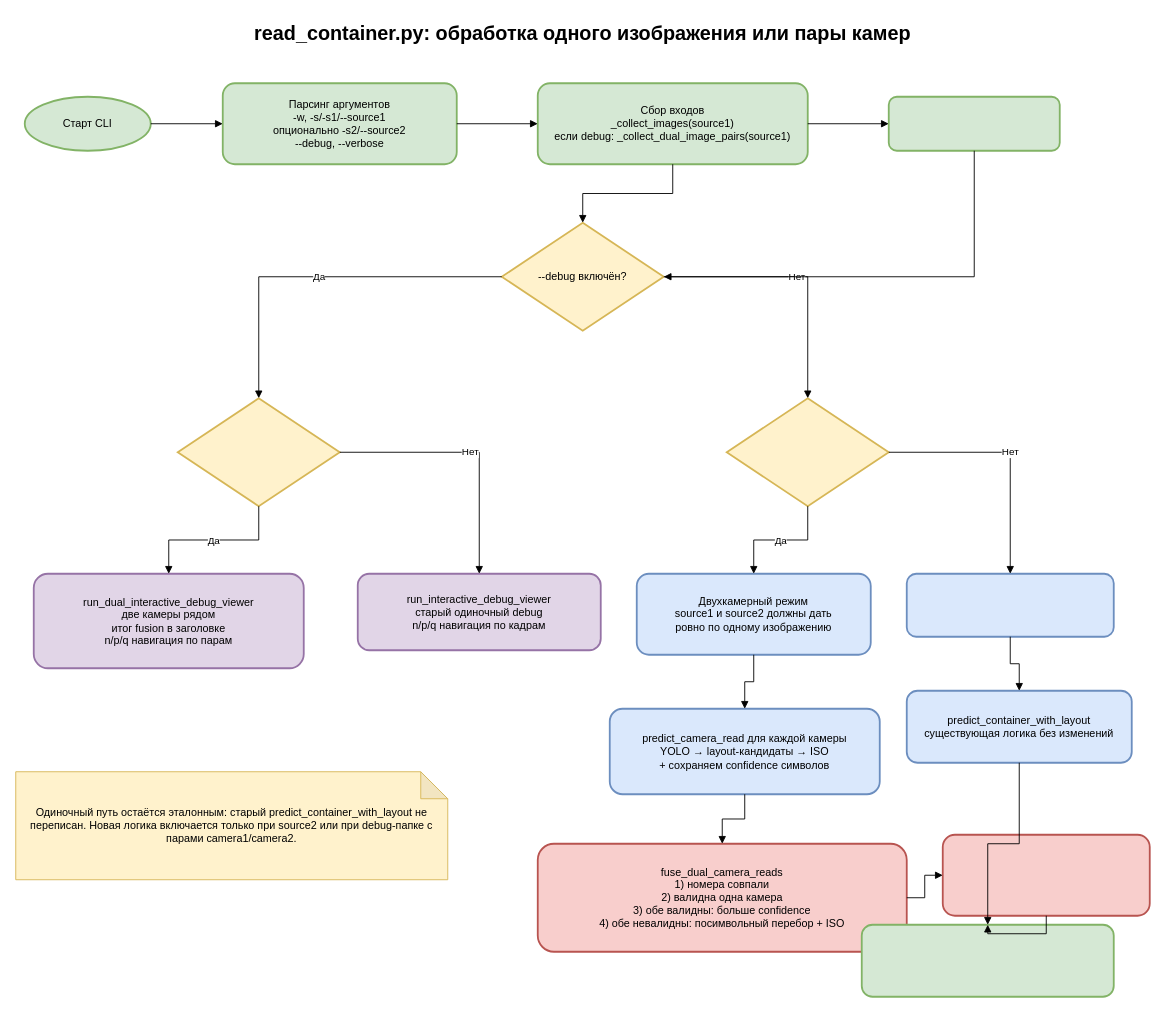
Some shapes in this 1166 by 1013 pixel diagram are drawn without their labels. Here are the shapes that lost their labels. From the top down, the box of each, then its label:
(887, 95, 1060, 151): Загрузка YOLO YOLO(weights)
(176, 397, 340, 507): Есть пары камер?
(725, 397, 889, 507): Передан source2?
(905, 572, 1114, 637): Одиночный режим цикл по images из source1
(941, 833, 1150, 916): type_size_code берём с любой камеры очистка фрагмента: 722G1 → 22G1
(860, 923, 1114, 997): stdout JSON совместим result + elapsed_ms --verbose: детали камер в stderr
